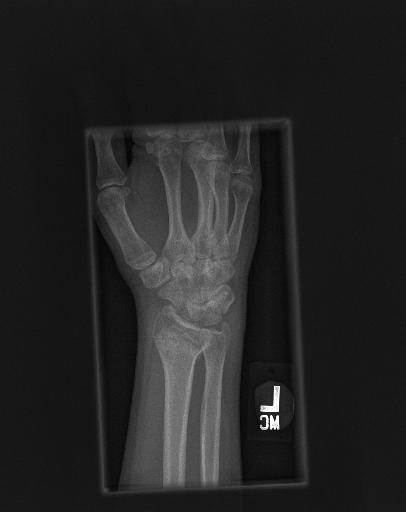fractured: (138, 313, 222, 370)
